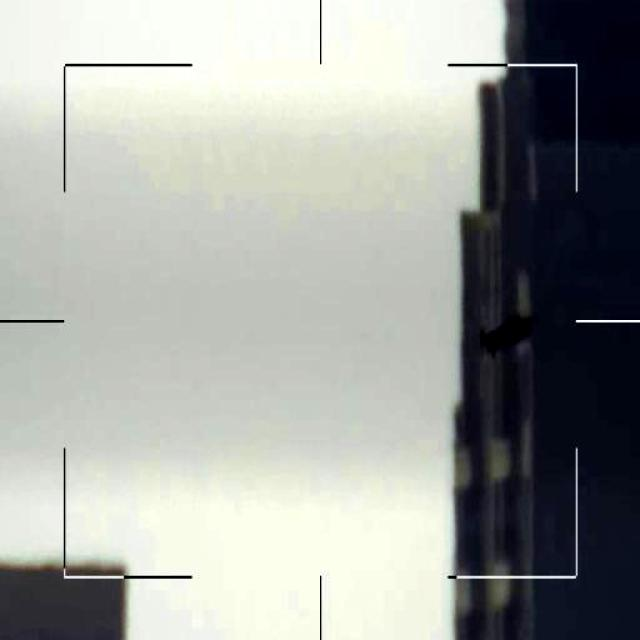bird: (480, 311, 536, 359)
